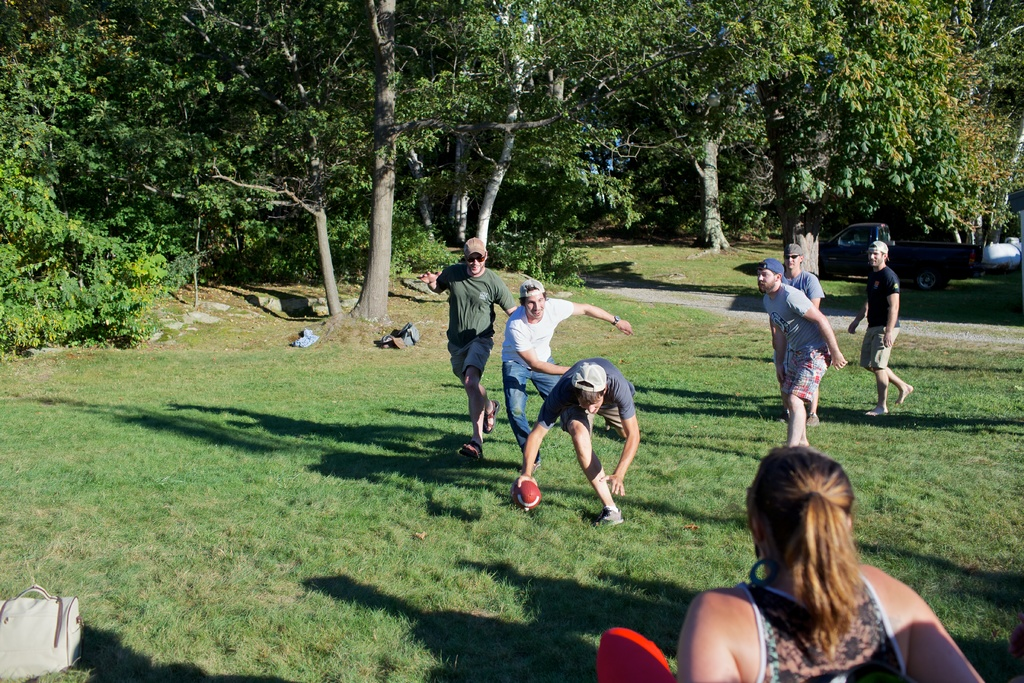Ball: (513, 483, 538, 511)
